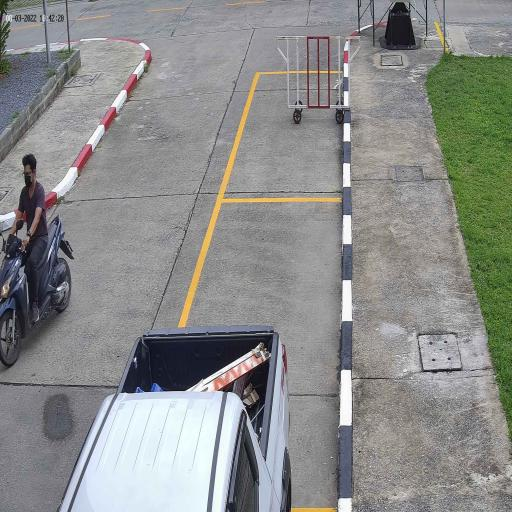car: (55, 324, 292, 512)
motorcycle: (0, 216, 73, 368)
